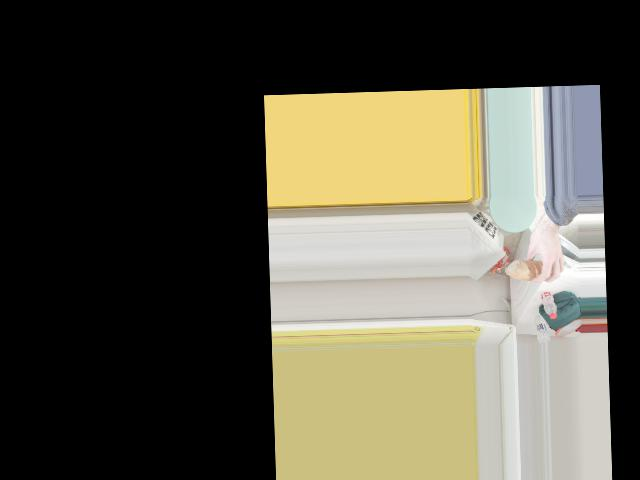sweet_potato: (513, 259, 545, 281)
